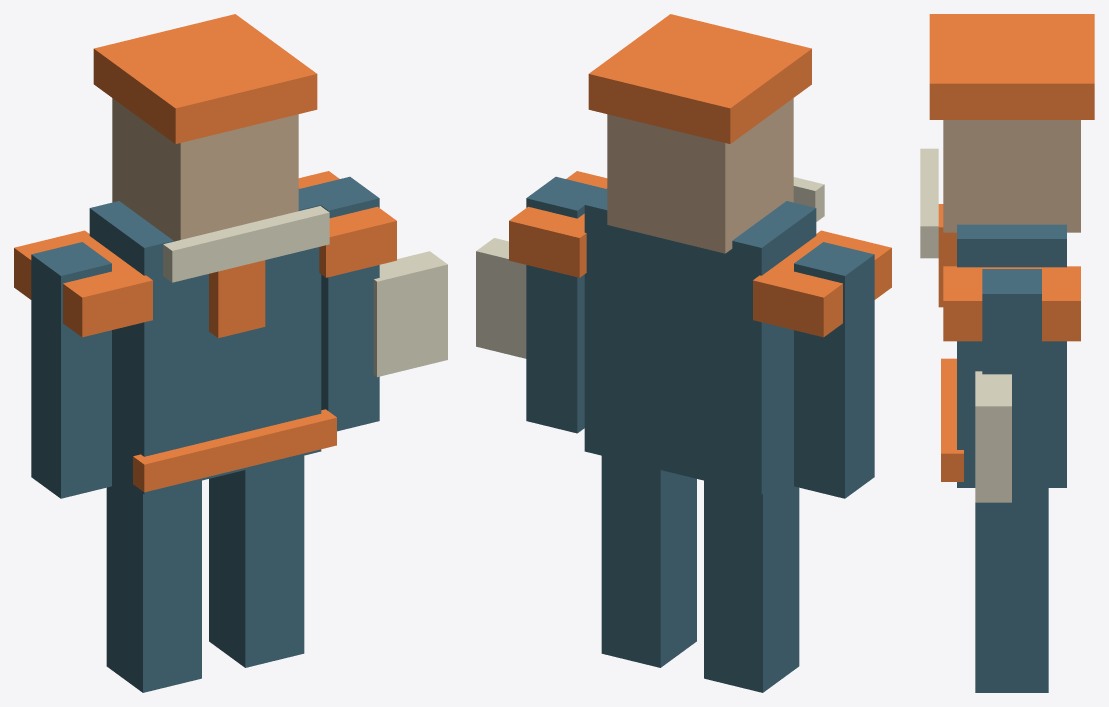
File: 15_ilyra_starfall_marshal_from_hammer.glb
3 views of the same model, side by side, from view 1: azimuth 30°, elevation 25°; view 2: azimuth 150°, elevation 25°; view 3: azimuth 270°, elevation 25° (orthographic).
Parts seen in each view (by area): view 1: Ilyra Starfall, Marshal from Hammer; view 2: Ilyra Starfall, Marshal from Hammer; view 3: Ilyra Starfall, Marshal from Hammer.
Part boxes in pixels (x1,y1,x2,y2): Ilyra Starfall, Marshal from Hammer: [14, 14, 447, 692]; Ilyra Starfall, Marshal from Hammer: [476, 14, 891, 692]; Ilyra Starfall, Marshal from Hammer: [920, 14, 1094, 692].
Size of the model in its own units: 0.936 by 1.4 by 0.3648.
